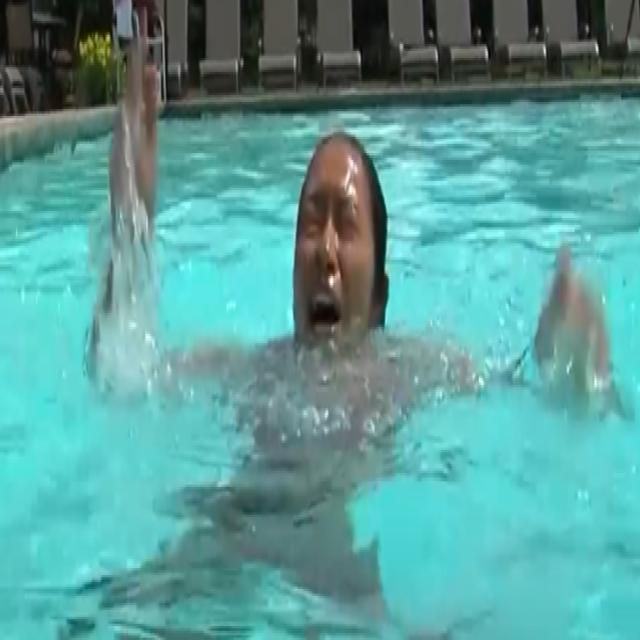Drowning: (73, 0, 627, 624)
